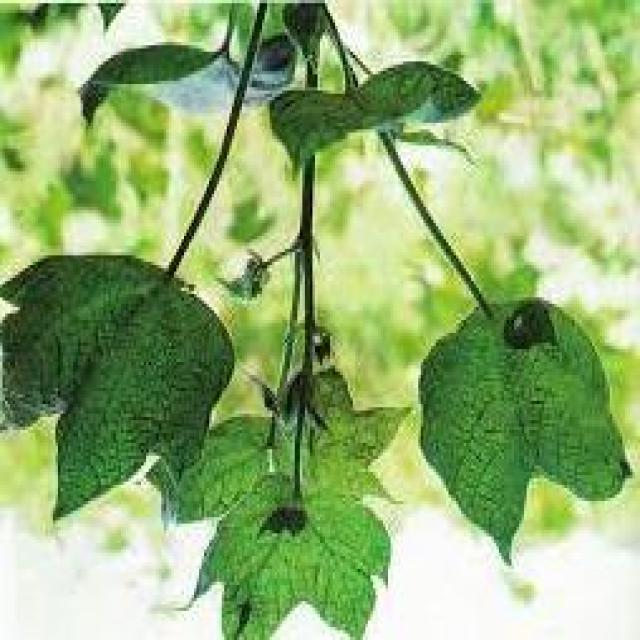Leaf Curl Virus: (89, 229, 556, 531)
